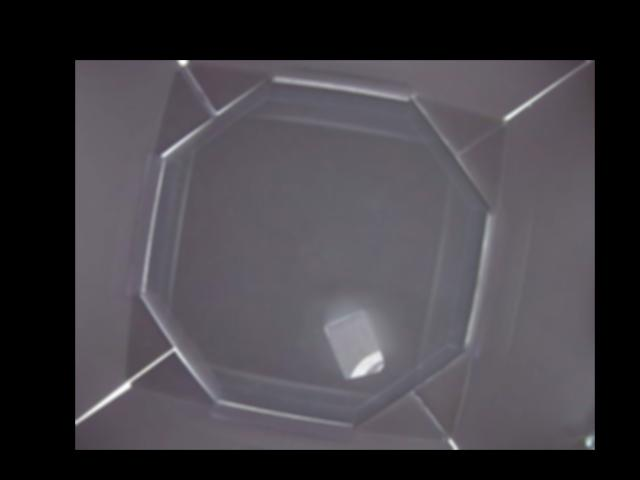China: (326, 311, 384, 377)
